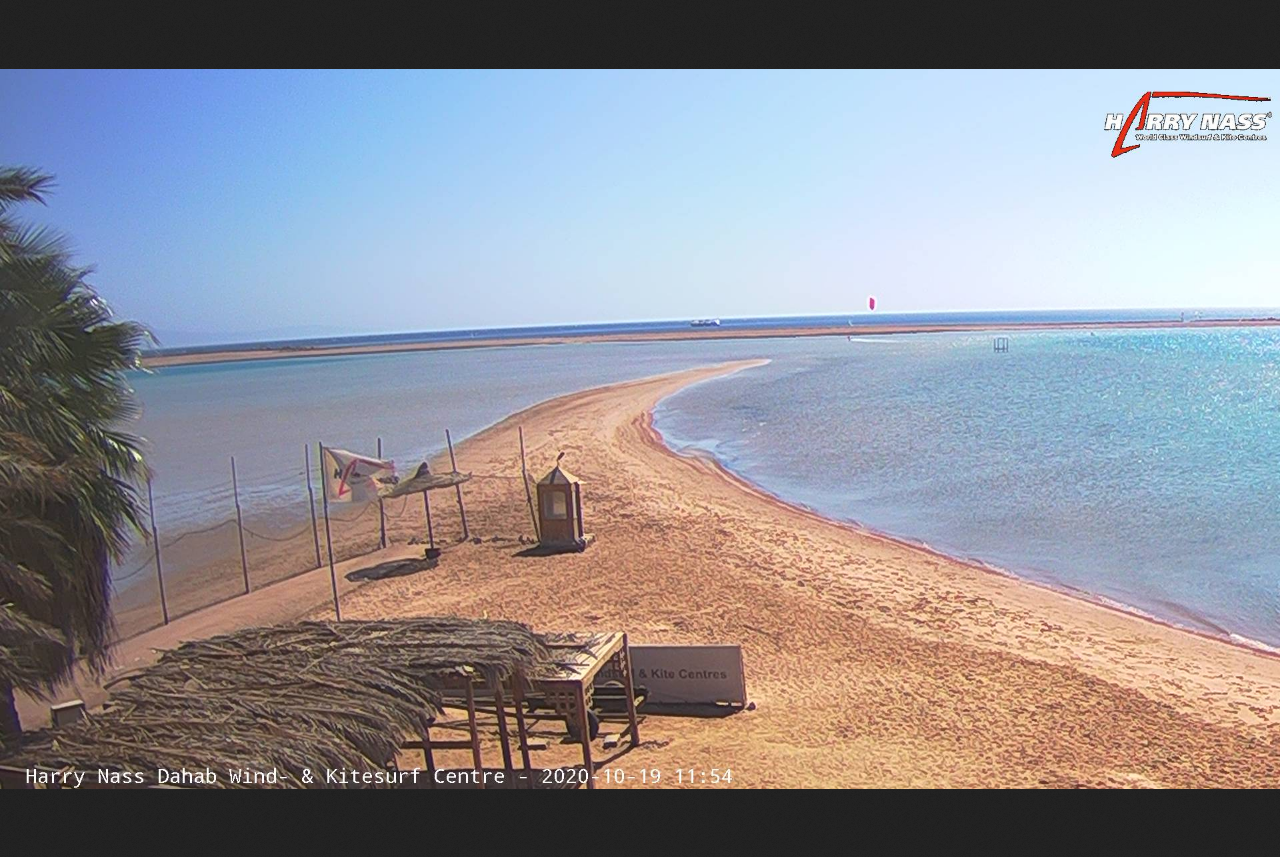yes: (320, 448, 399, 501)
